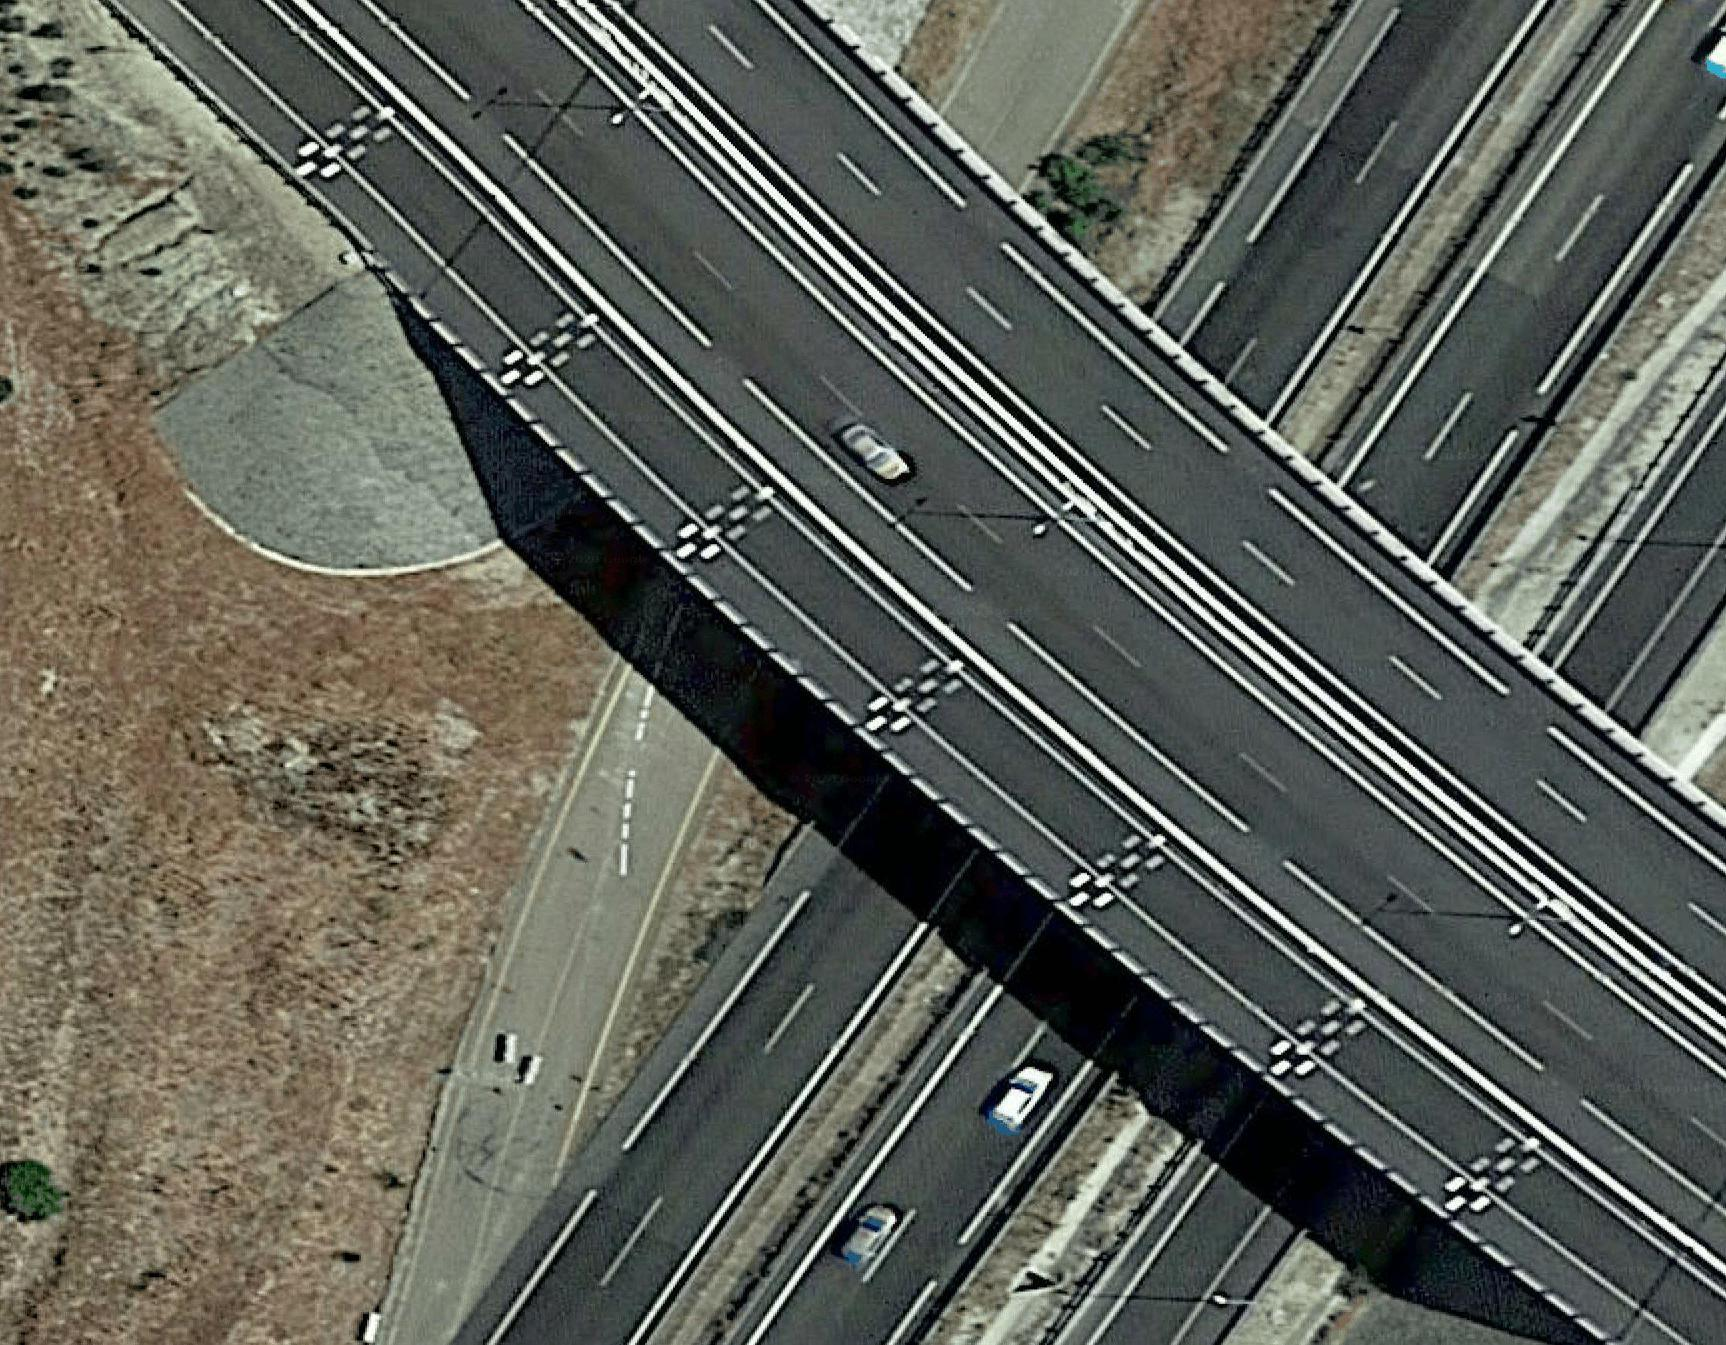bridge: (373, 49, 1726, 1230)
small-vehicle: (983, 1056, 1059, 1138)
